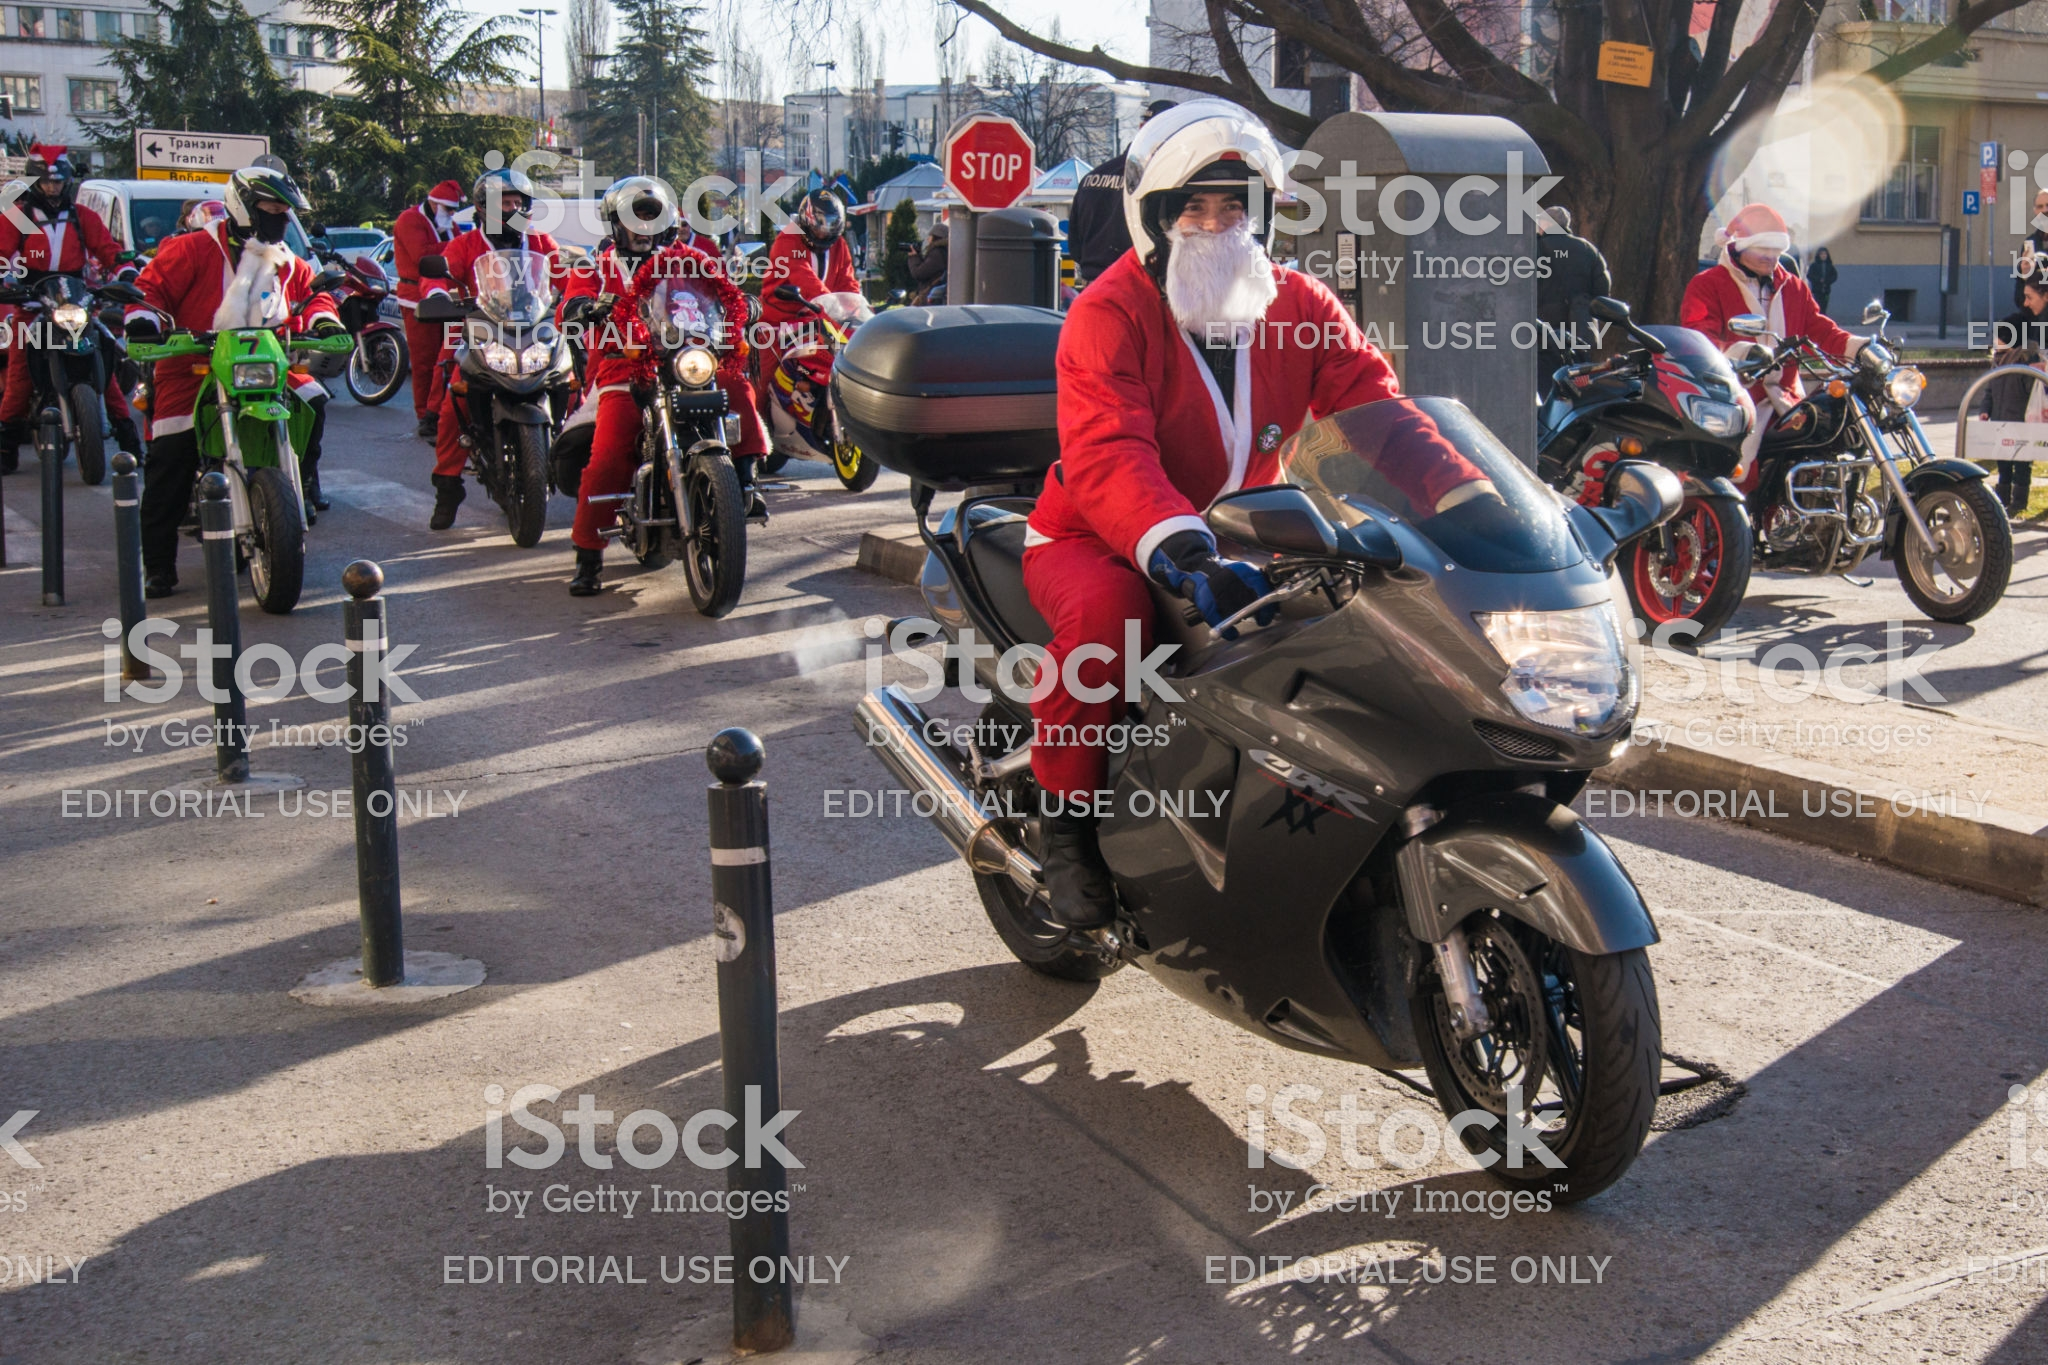helmet: (1102, 113, 1271, 256), (218, 169, 300, 233), (600, 174, 673, 238)
